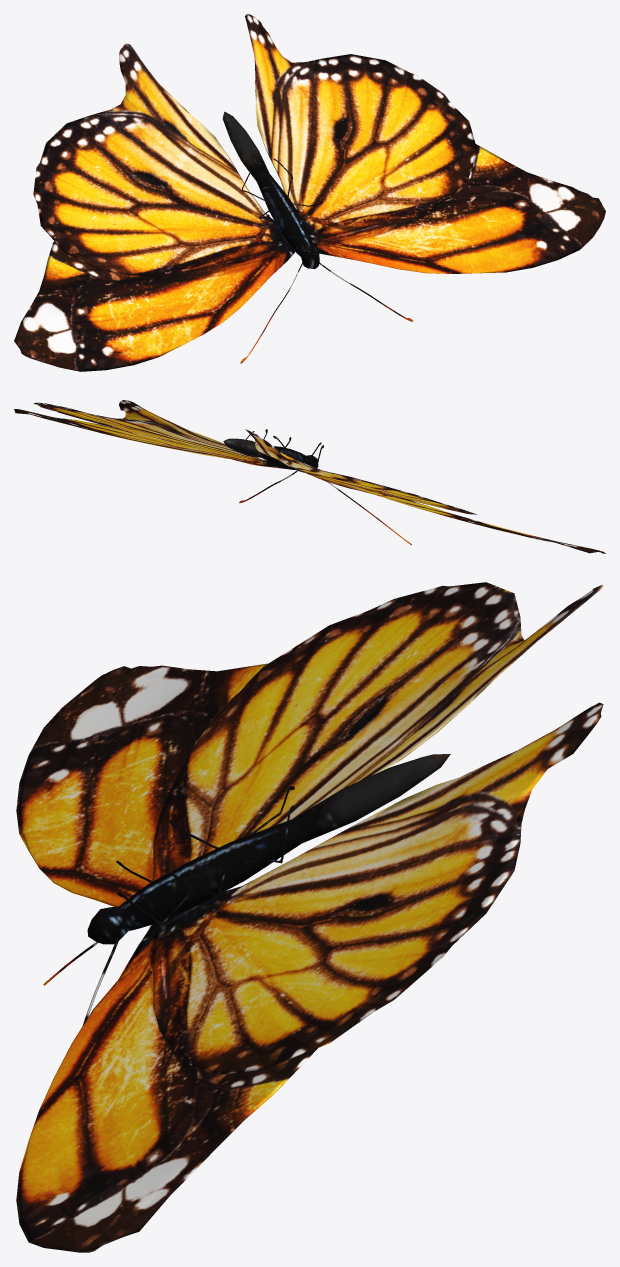
Rendered from Butterfly.glb.
3 renders of one model, top to bottom at view 1: azimuth 30°, elevation 25°; view 2: azimuth 150°, elevation 25°; view 3: azimuth 270°, elevation 25°, orthographic. The views are drawn at different scales.
Parts seen in each view (by area): view 1: Wings_Side1_Wings_Side1, Wings_Top1_Wings_Top1, Body; view 2: Wings_Side1_Wings_Side1, Wings_Top1_Wings_Top1, Body; view 3: Wings_Side1_Wings_Side1, Wings_Top1_Wings_Top1, Body.
Boxes of the visible parts, x1=… form: Wings_Side1_Wings_Side1: x1=33, y1=14, x2=477, y2=276; Wings_Top1_Wings_Top1: x1=14, y1=144, x2=605, y2=371; Body: x1=222, y1=111, x2=413, y2=363; Wings_Side1_Wings_Side1: x1=34, y1=400, x2=477, y2=514; Wings_Top1_Wings_Top1: x1=14, y1=409, x2=605, y2=553; Body: x1=223, y1=429, x2=411, y2=545; Wings_Side1_Wings_Side1: x1=149, y1=582, x2=603, y2=1074; Wings_Top1_Wings_Top1: x1=16, y1=663, x2=317, y2=1252; Body: x1=43, y1=754, x2=450, y2=1025.
Size of the model in its own units: 17.07 by 5.91 by 7.42.
1 material, 1 textured.
